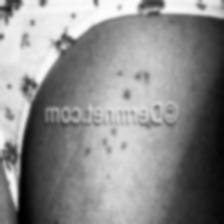Toxin: (82, 132, 134, 166), (114, 68, 162, 104)
